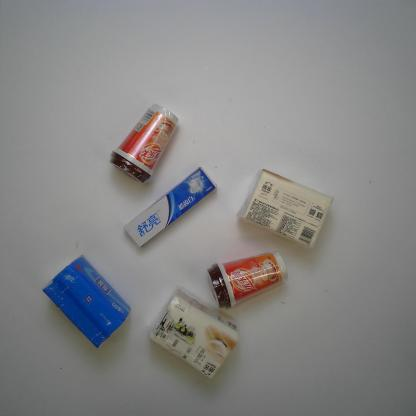Instant Drink: (109, 100, 181, 186), (206, 249, 290, 310)
Personal Hygiene: (122, 166, 218, 251)
Tissue: (146, 286, 244, 384), (40, 252, 133, 350), (233, 168, 336, 251)
